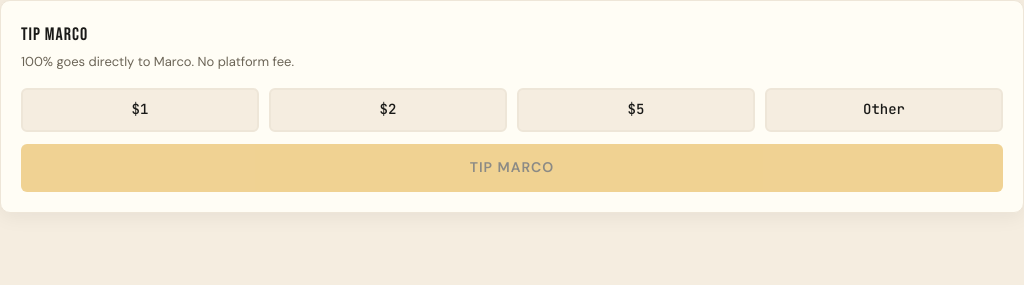
Test case: TipPanel › custom amount input accepts valid values and updates CTA
This screenshot has width=1024, height=285.
Click the button "Other".
click(884, 110)  # box [765,88,1003,132]
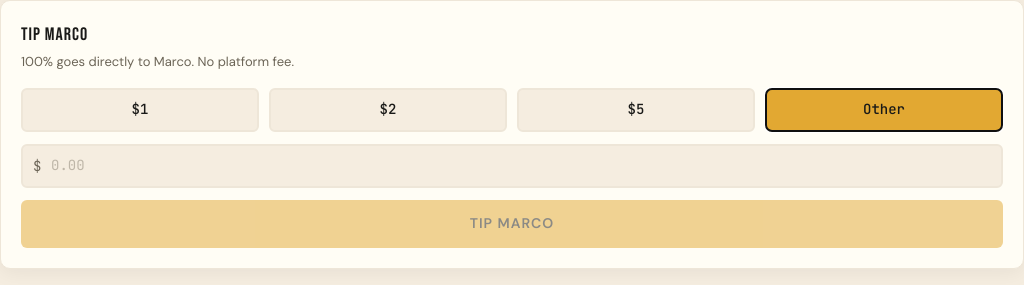
Type "3.50" into the number field with placeholder "0.00".
click(512, 166); type("3.50")  # box [21,144,1003,188]
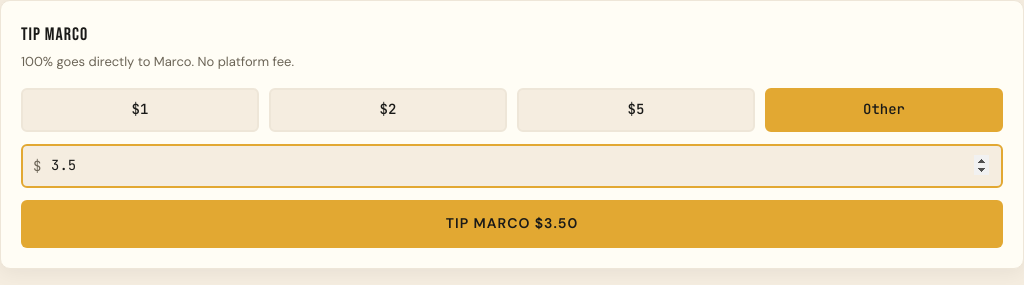
Expected: the button "TIP MARCO $3.50" is shown, [21,200,1003,248]
